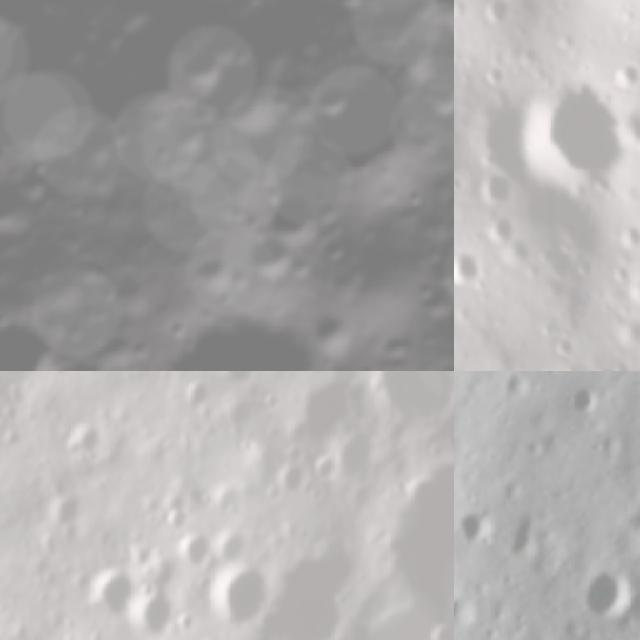crater: (369, 448, 454, 640), (159, 299, 361, 371), (523, 85, 627, 194), (0, 284, 94, 371), (201, 555, 278, 640), (569, 555, 640, 638), (464, 90, 535, 172), (361, 371, 454, 431), (492, 503, 560, 571), (236, 218, 302, 286), (76, 562, 140, 626), (260, 182, 318, 240), (454, 497, 507, 559), (128, 584, 185, 640), (561, 373, 615, 427), (310, 76, 362, 129), (410, 67, 454, 124), (426, 234, 454, 321), (179, 36, 228, 85), (43, 489, 90, 538), (0, 173, 30, 244), (386, 24, 432, 69), (454, 583, 490, 640), (68, 416, 110, 463), (270, 454, 308, 504), (179, 522, 216, 573), (476, 172, 519, 207), (161, 501, 198, 538), (454, 245, 484, 288), (617, 108, 640, 154), (613, 55, 640, 92), (488, 212, 519, 244), (323, 0, 372, 17), (483, 0, 515, 26), (612, 220, 640, 247), (614, 315, 640, 344), (419, 351, 454, 371), (554, 332, 576, 356), (626, 274, 640, 305)
